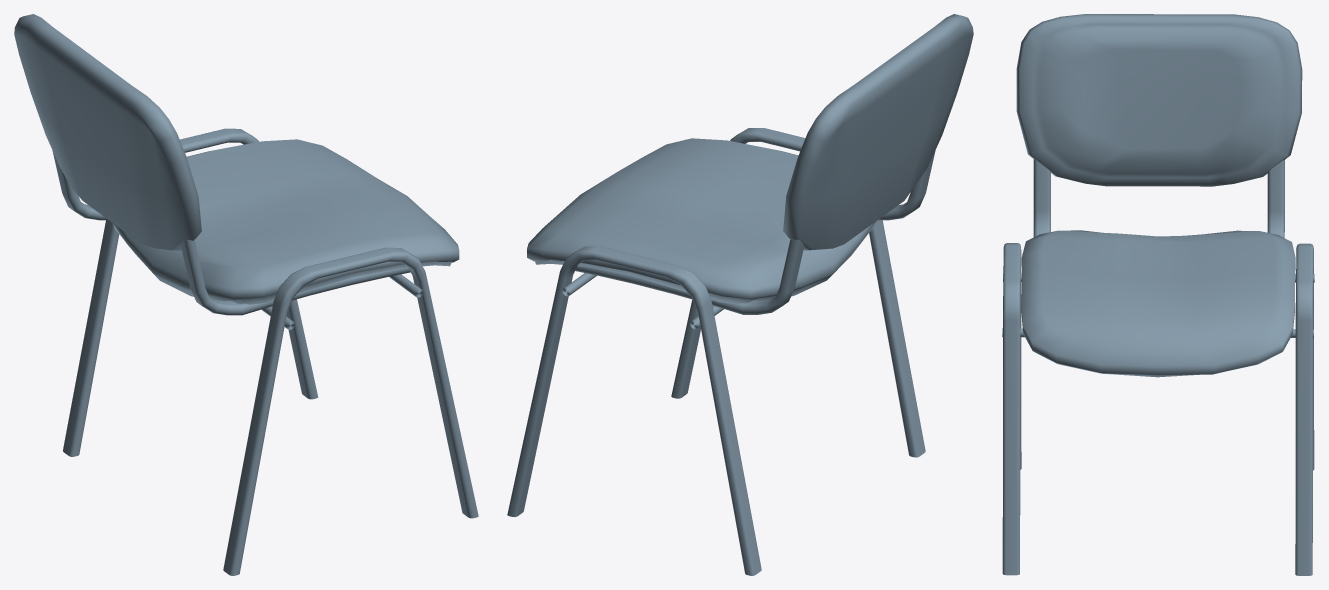
File: chair.fbx
The picture shows the model from 3 angles, left to right: view 1: azimuth 30°, elevation 25°; view 2: azimuth 150°, elevation 25°; view 3: azimuth 270°, elevation 25°; orthographic projection. The views are drawn at different scales.
Visible parts, largest first — view 1: chair19; view 2: chair19; view 3: chair19.
Part boxes in pixels (bbox=[...]): chair19: bbox=[14, 14, 478, 575]; chair19: bbox=[507, 14, 973, 575]; chair19: bbox=[1002, 14, 1314, 575].
Size of the model in its own units: 59.83 by 79.4 by 52.9.
